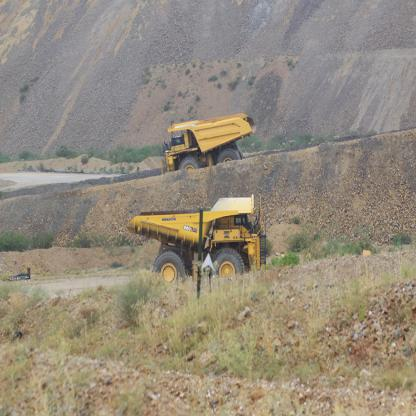dump_truck: (130, 189, 267, 285), (152, 107, 272, 176)
